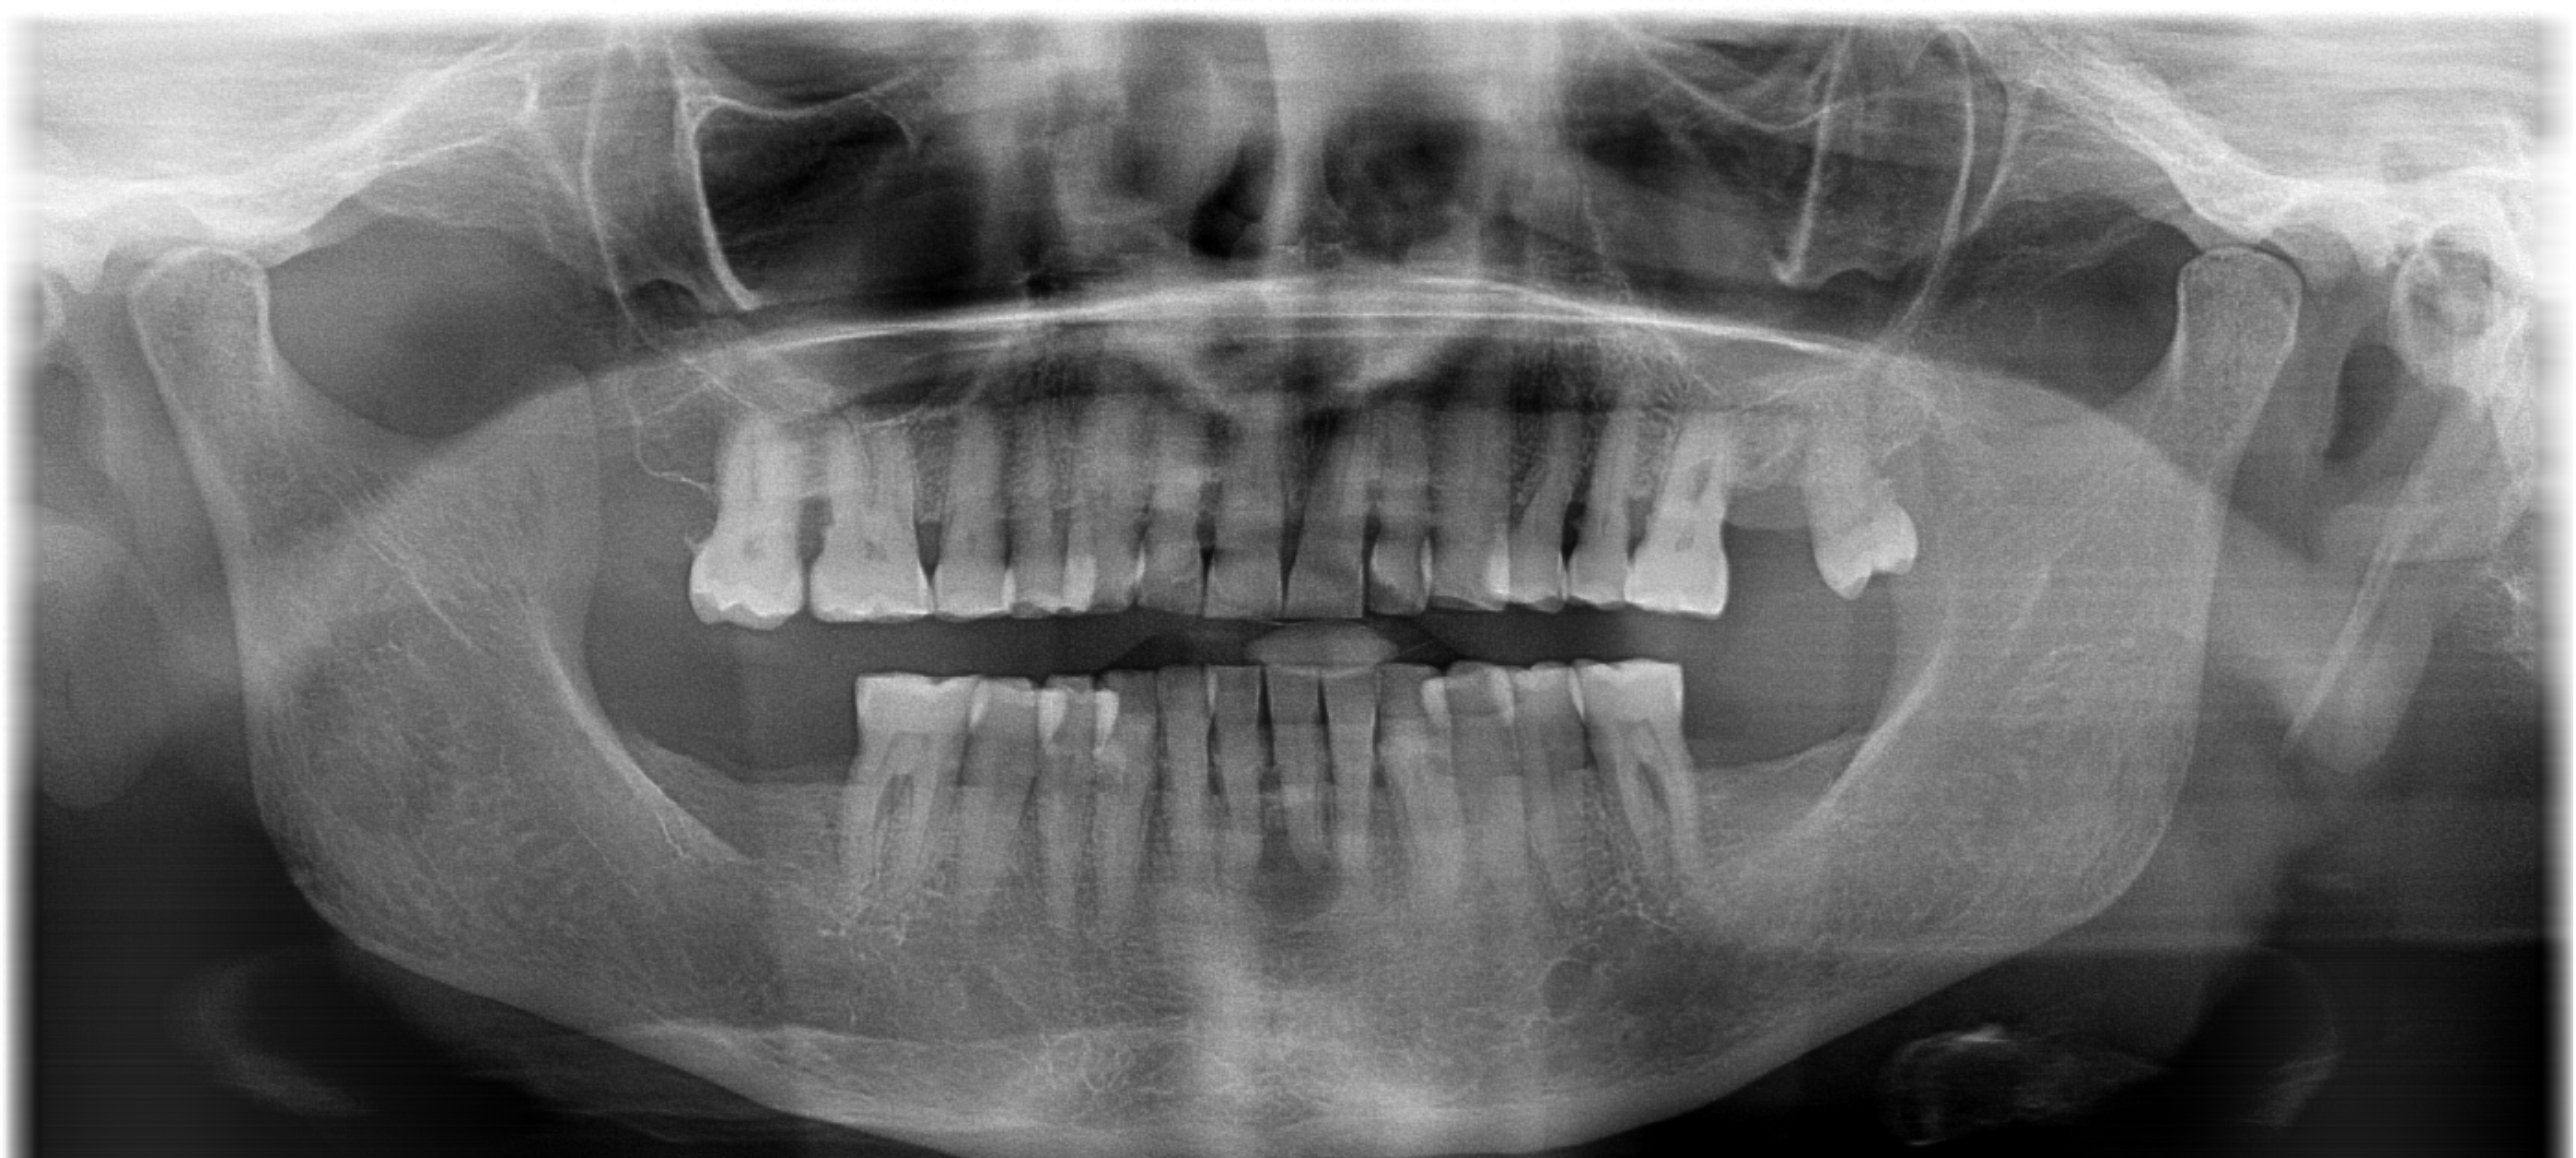apinamiento: (931, 534, 1296, 642), (953, 675, 1242, 769)
cordal: (1779, 391, 1966, 637)
zona_dentula: (1671, 378, 1865, 631), (715, 667, 907, 920), (1658, 632, 1850, 884)
